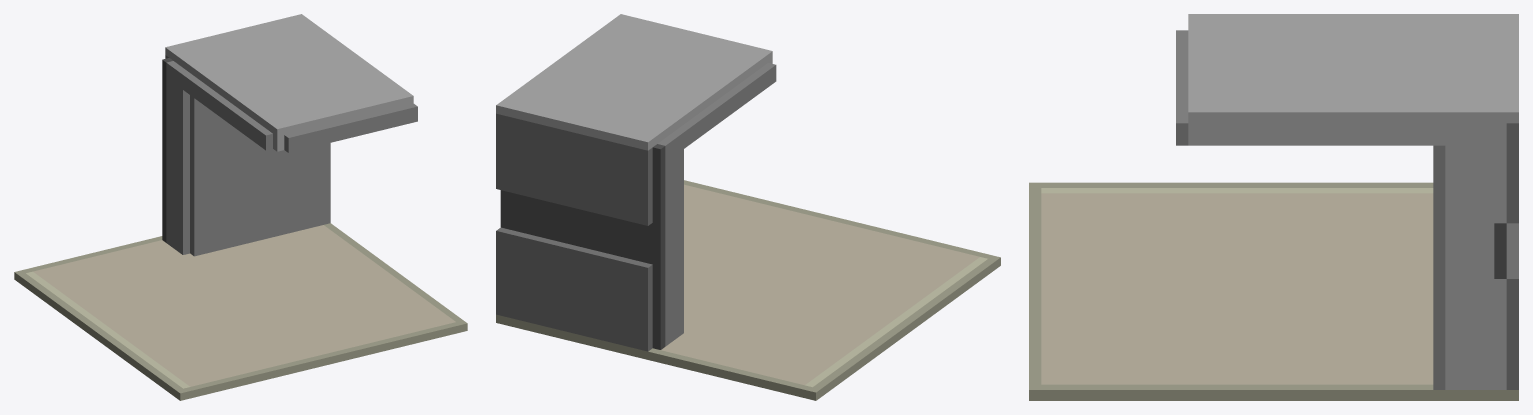
Rendered from Mesa_End_1.obj.
3 renders of one model, left to right at view 1: azimuth 30°, elevation 25°; view 2: azimuth 150°, elevation 25°; view 3: azimuth 270°, elevation 25°, orthographic. The views are drawn at different scales.
Bounding box in the file's own units: 40 × 26 × 40.
1 material, 1 textured.
